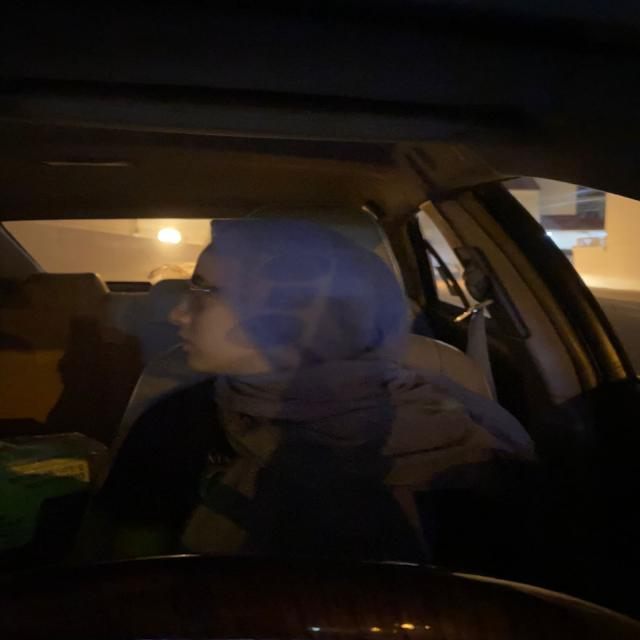LeftRight: (166, 211, 349, 385)
